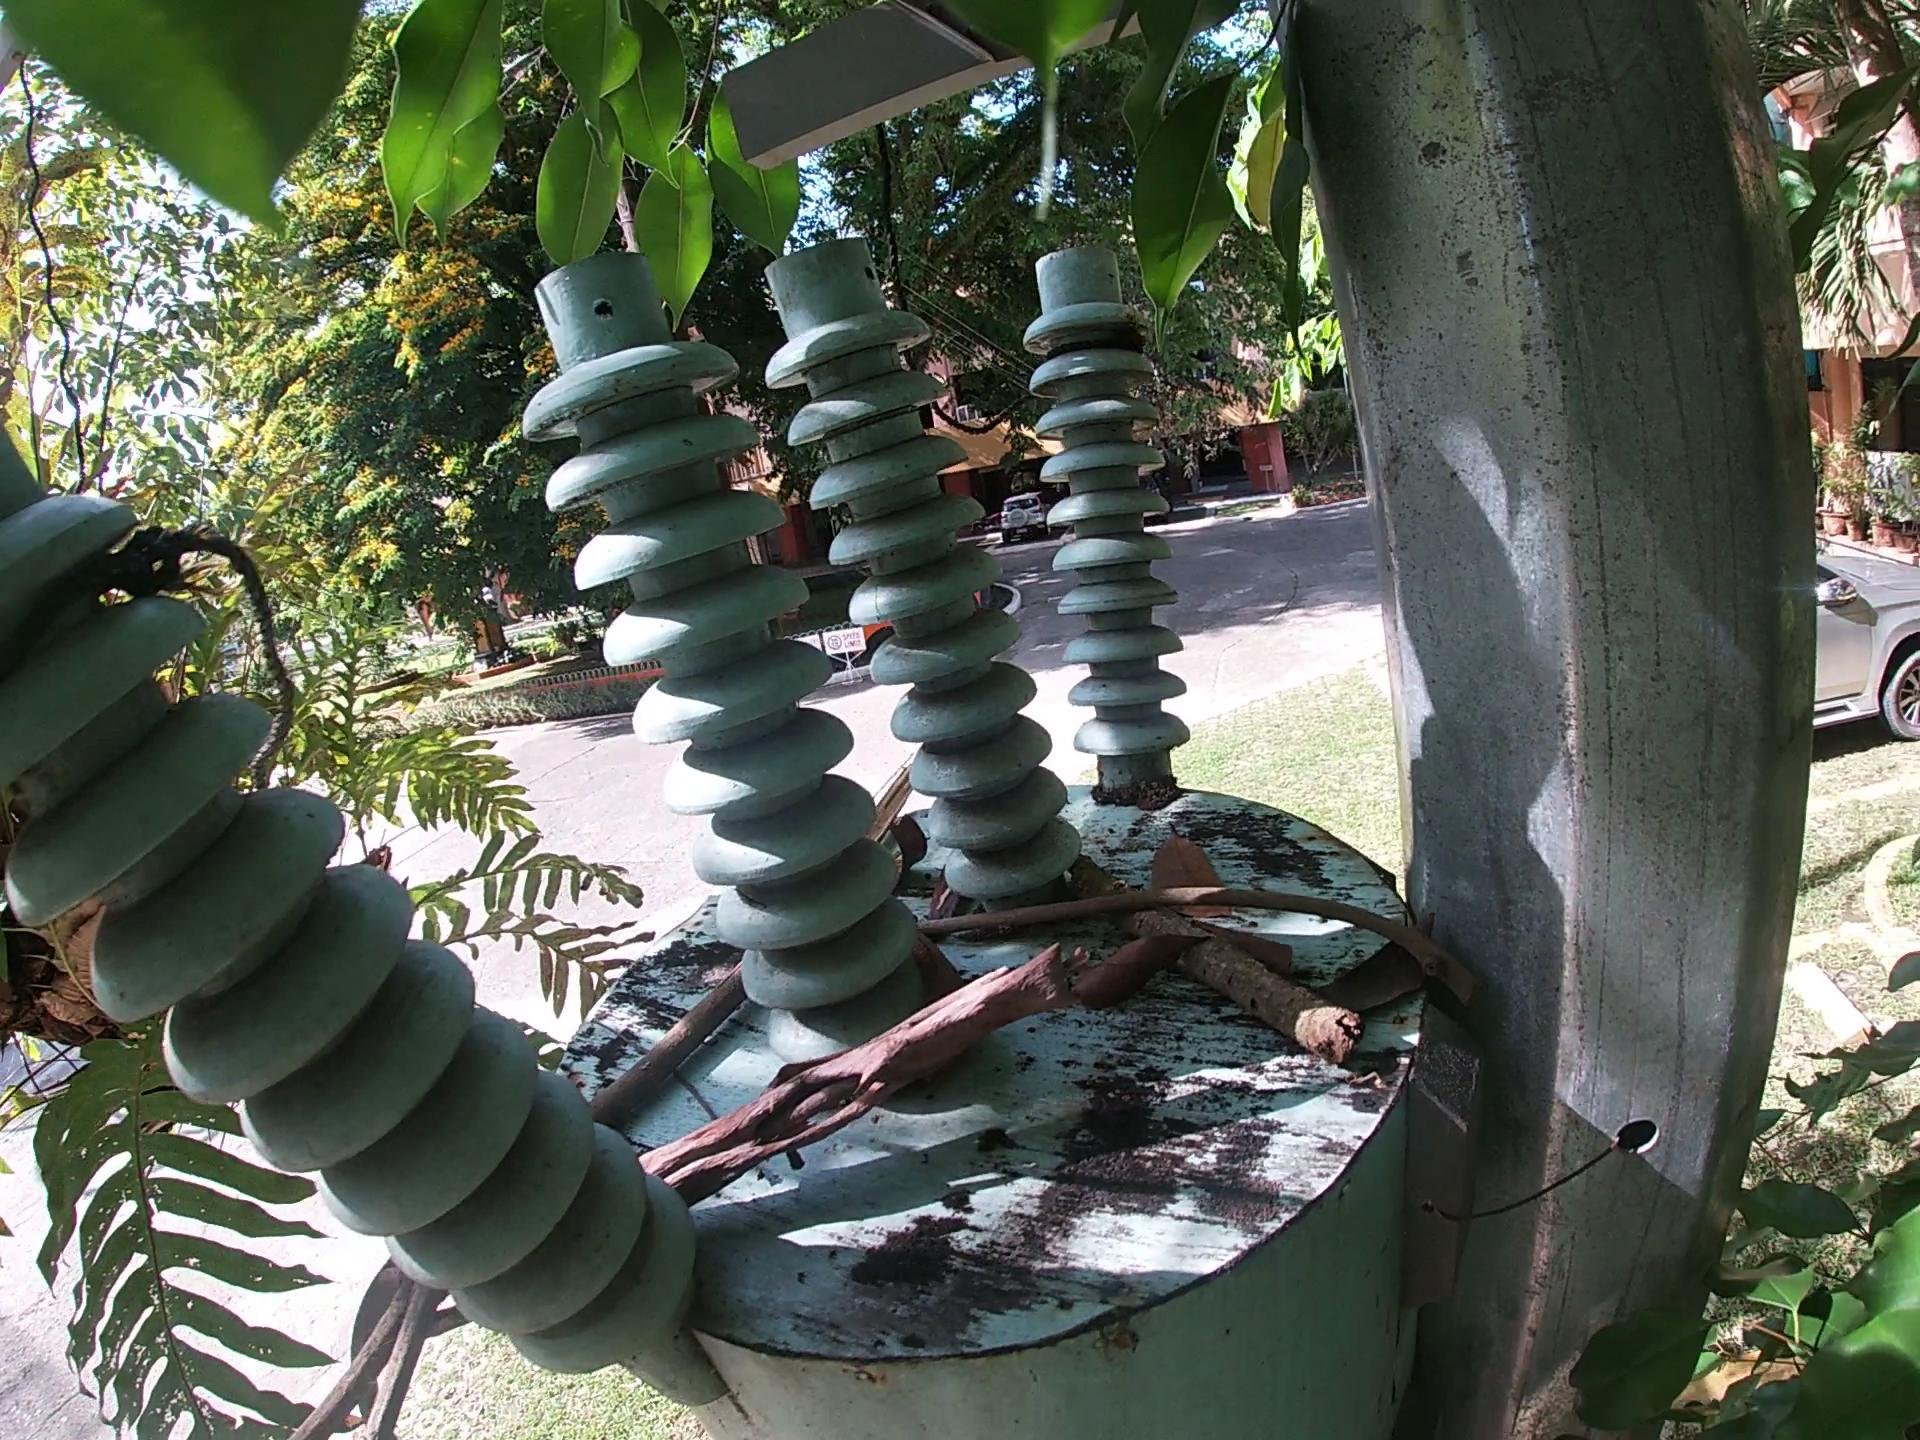leaf: (1311, 898, 1438, 1015), (1066, 927, 1220, 1021), (1144, 821, 1246, 927), (1217, 918, 1297, 985)
mahogany fruit: (909, 930, 978, 1088), (881, 812, 934, 883)
tree branch: (624, 944, 1079, 1212), (901, 880, 1491, 1015), (1066, 847, 1371, 1066), (281, 1265, 455, 1440), (581, 961, 751, 1137), (866, 765, 918, 849)
